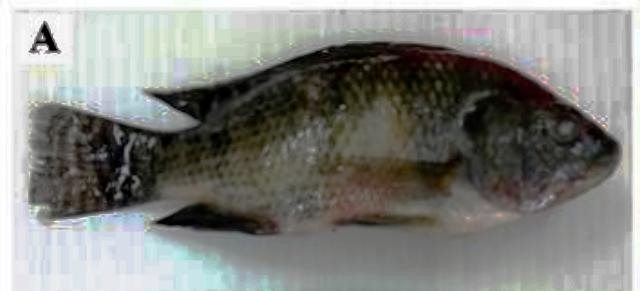Tilapia Lake Virus -TiLV-: (31, 42, 618, 233), (31, 42, 616, 233)
